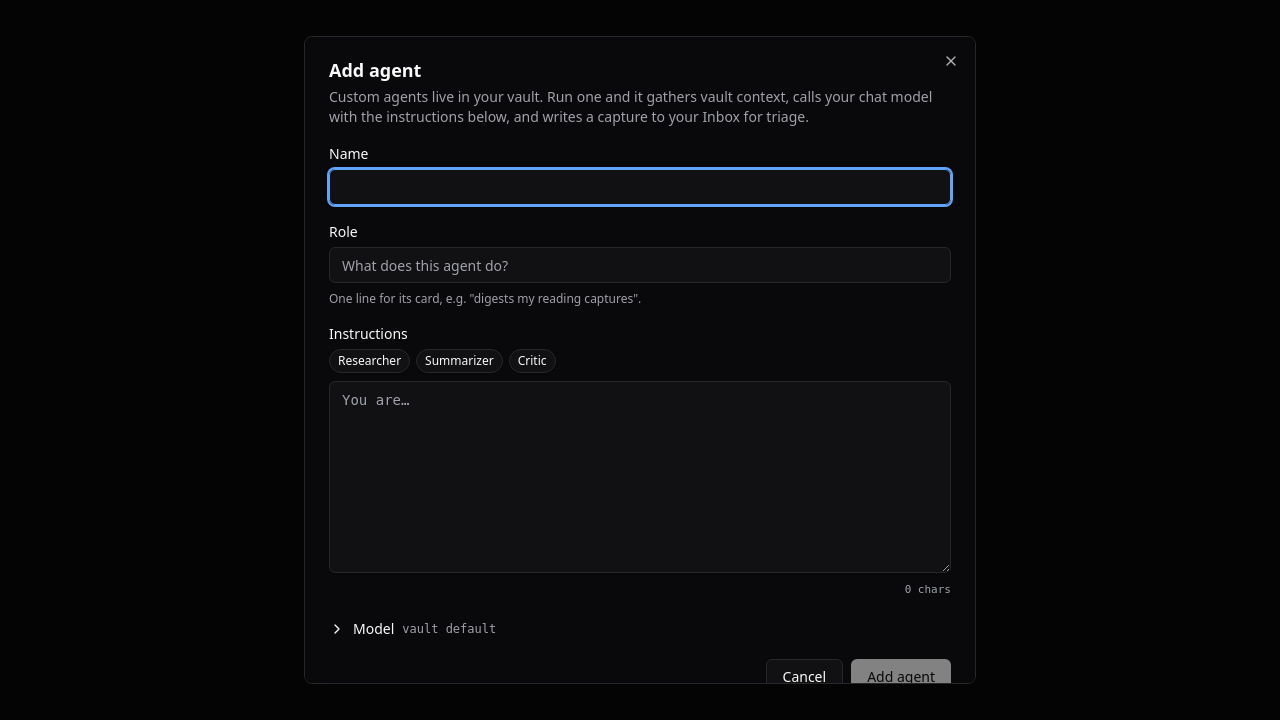
Test: AddAgentModal create flow › keeps the user's instructions when the overwrite is declined
In the text box labelled "Instructions": coordinates (640, 477) [329, 381, 951, 573], type "hand-written"
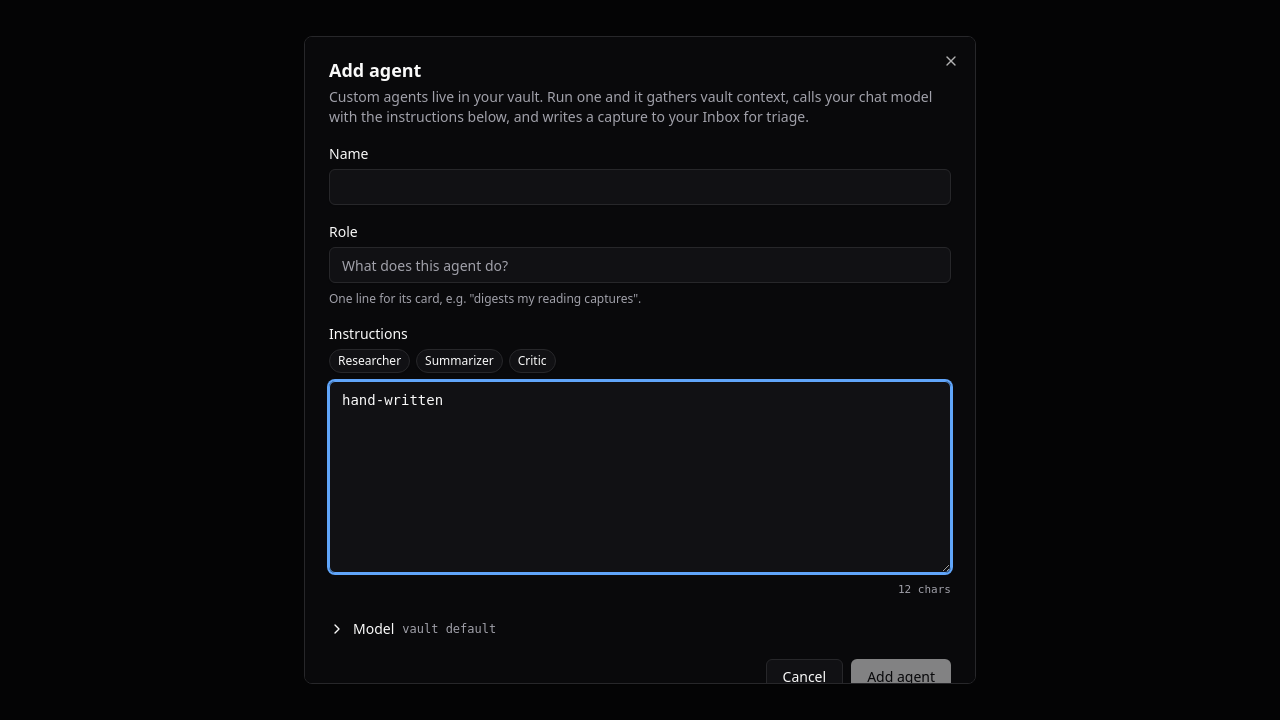
Click the button "Critic": coordinates (532, 361) [509, 349, 556, 373]
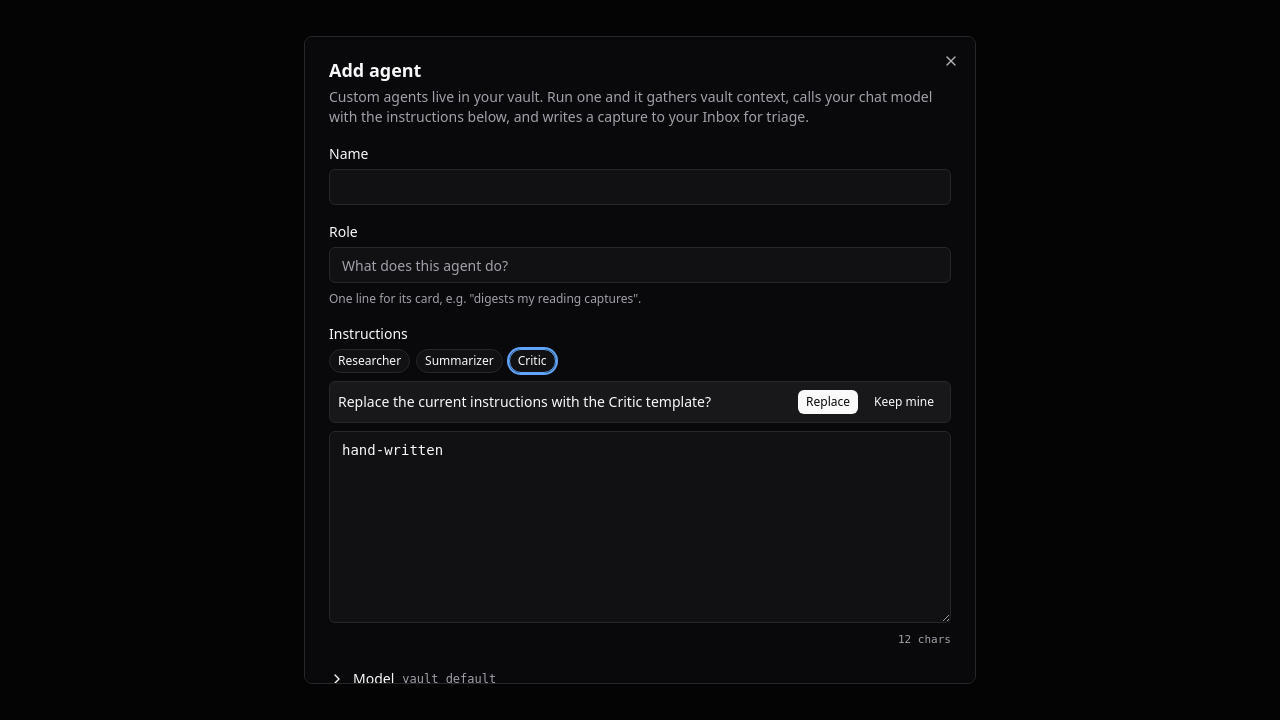
Click the button "Keep mine": coordinates (904, 402) [866, 390, 942, 414]
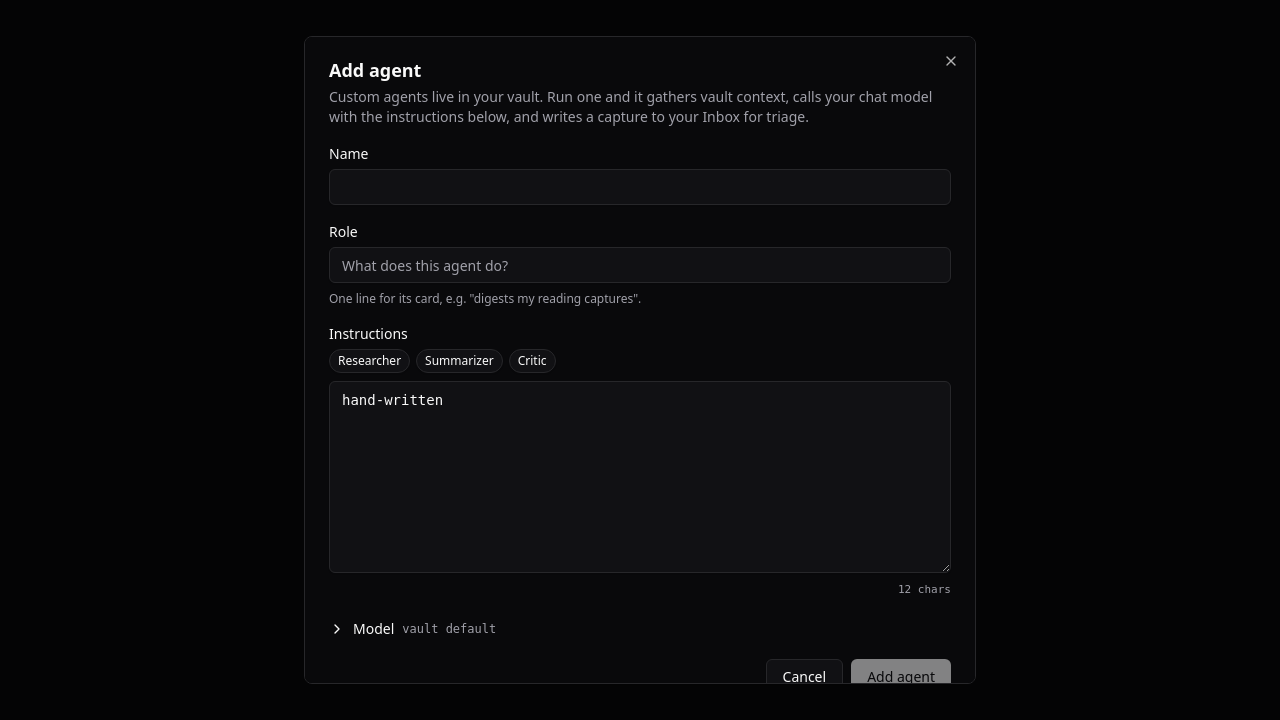
Expected: the text "Replace the current instructions" is gone
